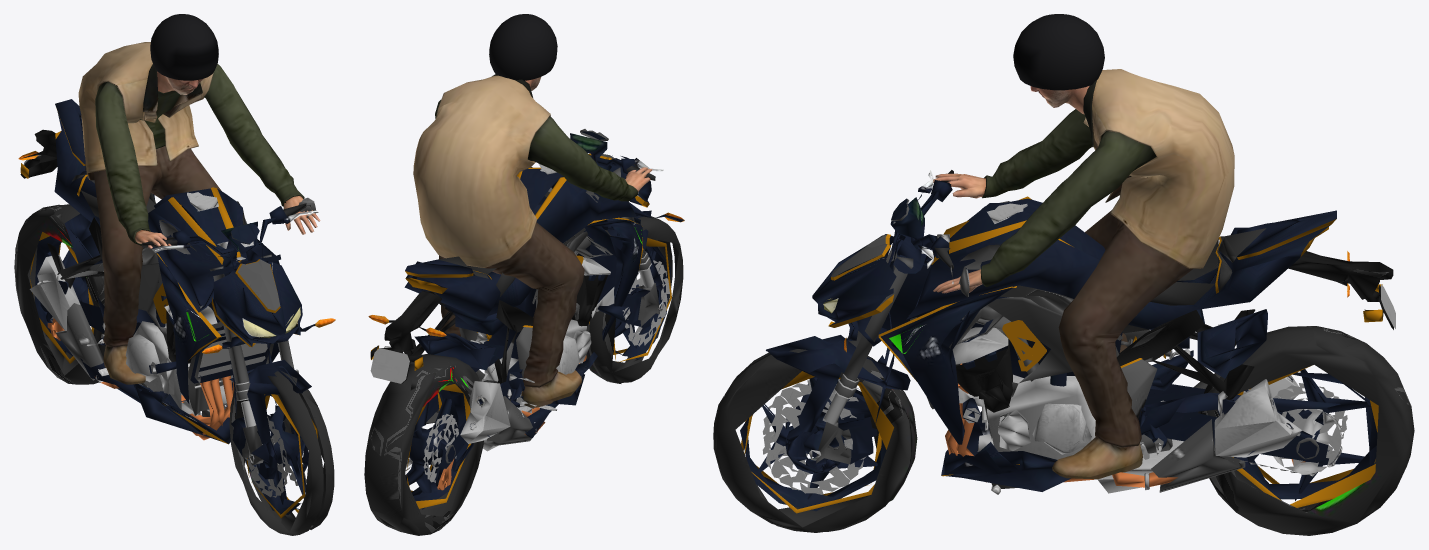
The model's file is bigbike_rider.glb.
3 renders of one model, left to right at view 1: azimuth 30°, elevation 25°; view 2: azimuth 150°, elevation 25°; view 3: azimuth 270°, elevation 25°, orthographic. The views are drawn at different scales.
Parts seen in each view (by area): view 1: paint, rider, black, metal, trim, helmet, glass; view 2: rider, paint, black, metal, helmet, trim; view 3: paint, black, rider, metal, trim, helmet.
Part boxes in pixels (<box>): paint: <box>35,99,318,514</box>; rider: <box>78,42,320,384</box>; black: <box>14,129,334,535</box>; metal: <box>18,151,335,497</box>; trim: <box>20,119,317,518</box>; helmet: <box>150,14,218,80</box>; glass: <box>243,307,300,338</box>; rider: <box>413,73,652,407</box>; paint: <box>404,131,683,509</box>; black: <box>364,129,683,535</box>; metal: <box>368,163,684,482</box>; helmet: <box>489,14,557,80</box>; trim: <box>370,153,671,508</box>; paint: <box>740,170,1377,511</box>; black: <box>713,170,1414,535</box>; rider: <box>933,69,1234,479</box>; metal: <box>762,203,1395,494</box>; trim: <box>741,196,1382,513</box>; helmet: <box>1013,14,1104,90</box>.
Bounding box in the file's own units: 0.7242 × 1.66 × 2.05.
Materials: 7 (5 with a texture image).
